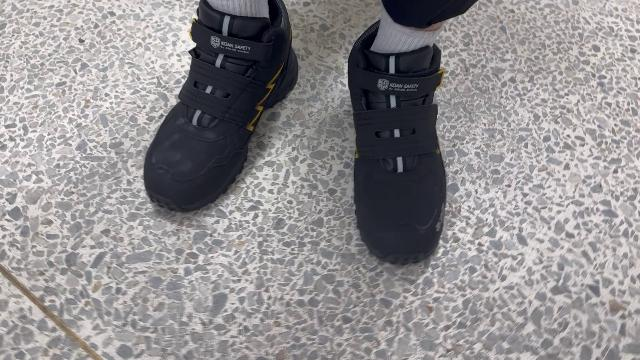shoe_worn: (139, 3, 302, 214), (336, 22, 462, 268)
